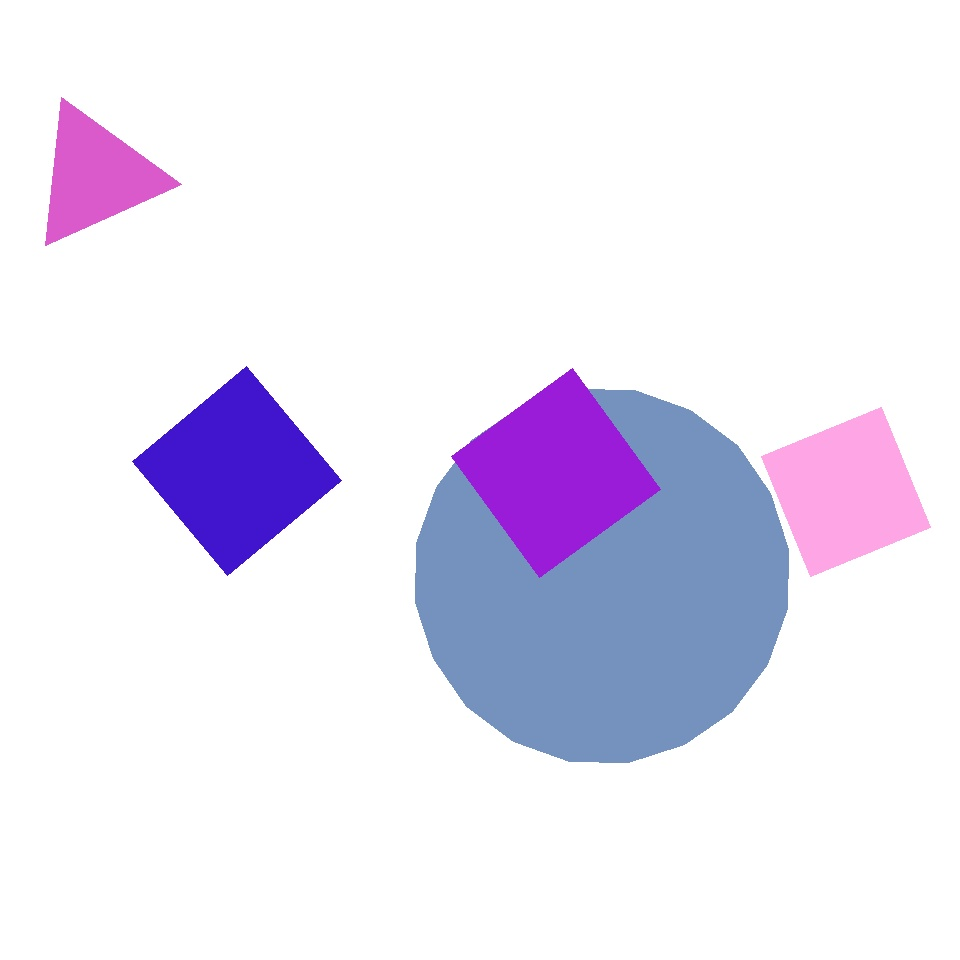circle: (62, 80, 302, 340), (718, 81, 896, 241), (28, 102, 164, 250), (152, 803, 286, 919)
square: (492, 71, 844, 422), (40, 508, 312, 778), (132, 366, 342, 576), (452, 369, 661, 578), (290, 426, 477, 614), (762, 407, 930, 576)
triangle: (416, 390, 788, 762)
